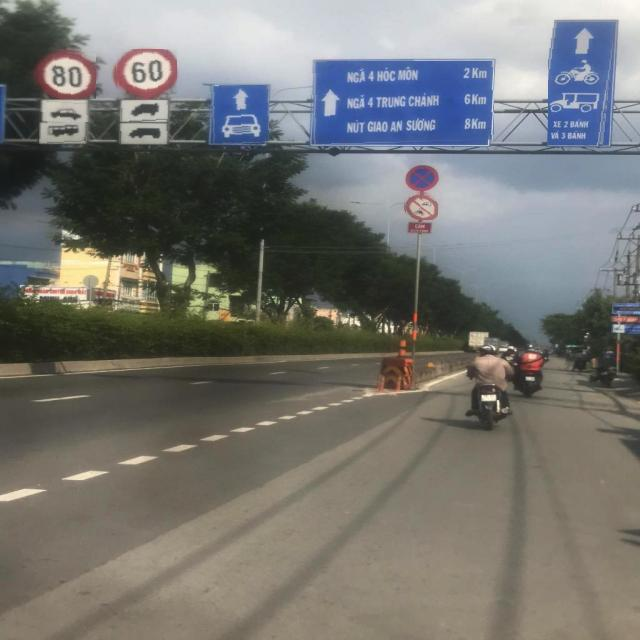127-toc-do-toi-da-60: (112, 45, 176, 99)
127-toc-do-toi-da-80: (34, 48, 98, 100)
130-cam-dung-va-do-xe: (404, 164, 440, 192)
